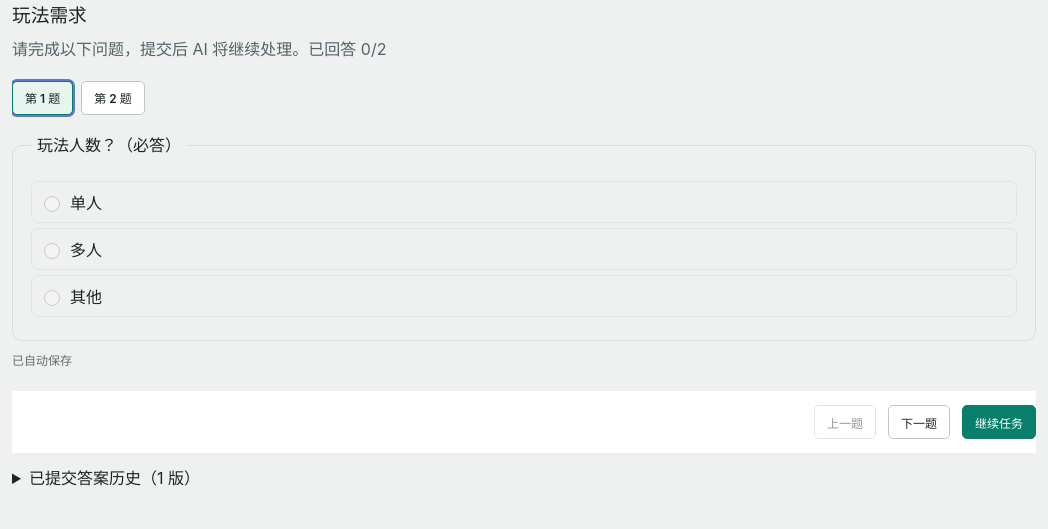
Test: does not claim sent or connect a terminal when the old attempt is completed
The image size is (1048, 529).
Click the button "继续任务" at [999, 422], box top-left (962, 405), bottom-right (1036, 439)
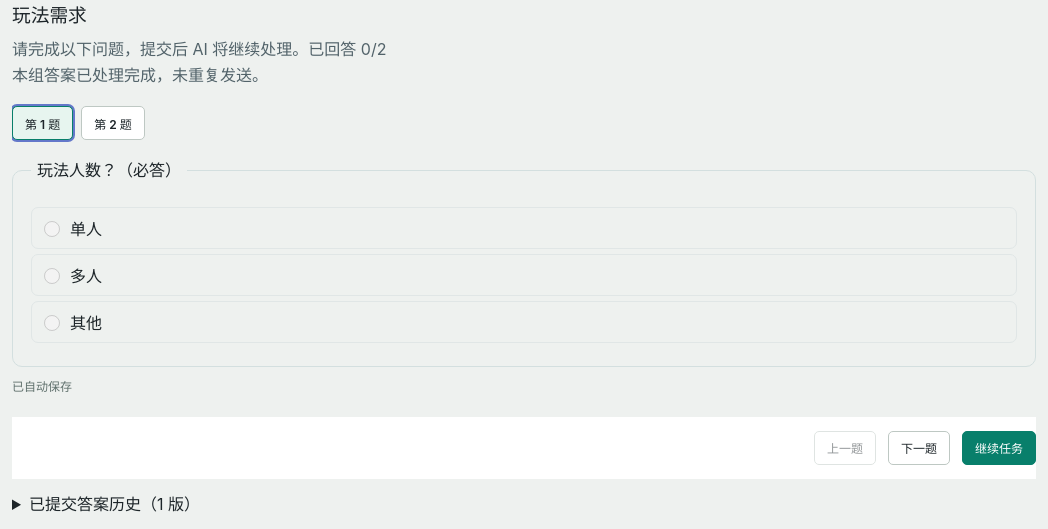
Result: the text "本组答案已处理完成，未重复发送。" is shown at top-left (12, 65), bottom-right (268, 85)
